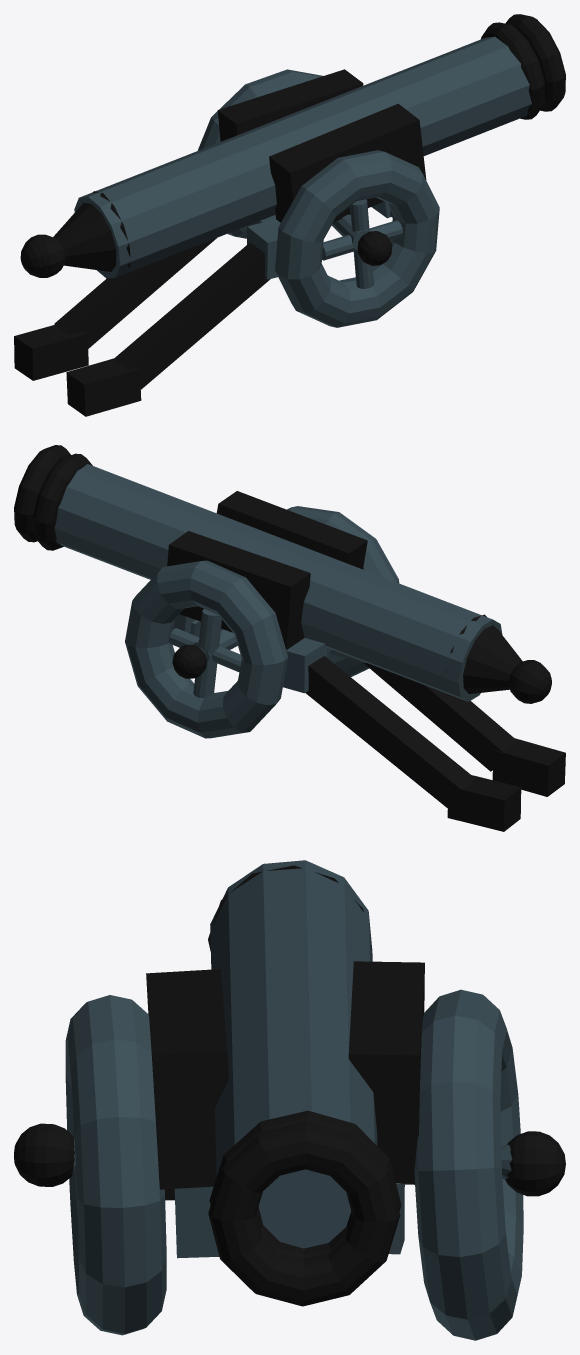
3 views of the same model, one above another, from view 1: azimuth 30°, elevation 25°; view 2: azimuth 150°, elevation 25°; view 3: azimuth 270°, elevation 25° (orthographic). The views are drawn at different scales.
Parts seen in each view (by area): view 1: node_MeshObject1769918464-PolyPaper17; view 2: node_MeshObject1769918464-PolyPaper17; view 3: node_MeshObject1769918464-PolyPaper17.
Boxes of the visible parts, bbox=[...] form: node_MeshObject1769918464-PolyPaper17: bbox=[14, 14, 565, 416]; node_MeshObject1769918464-PolyPaper17: bbox=[14, 445, 565, 831]; node_MeshObject1769918464-PolyPaper17: bbox=[14, 860, 565, 1340].
Bounding box in the file's own units: 2.05 × 0.9401 × 1.
